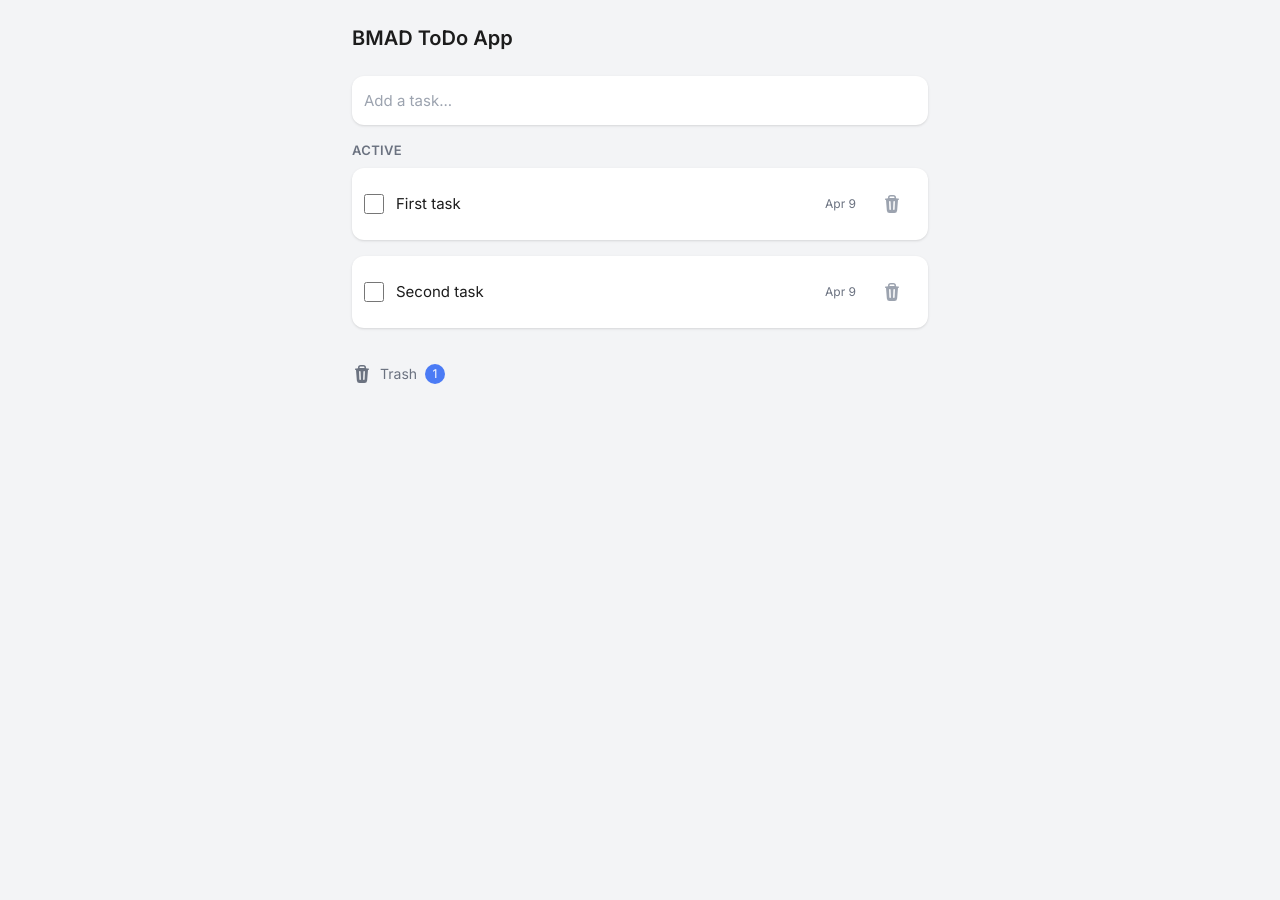
Test: App › opens trash dialog when trash button is clicked
Click the button with aria-label "trash, 1 item" at coordinates (398, 374), box [336,352,461,396]
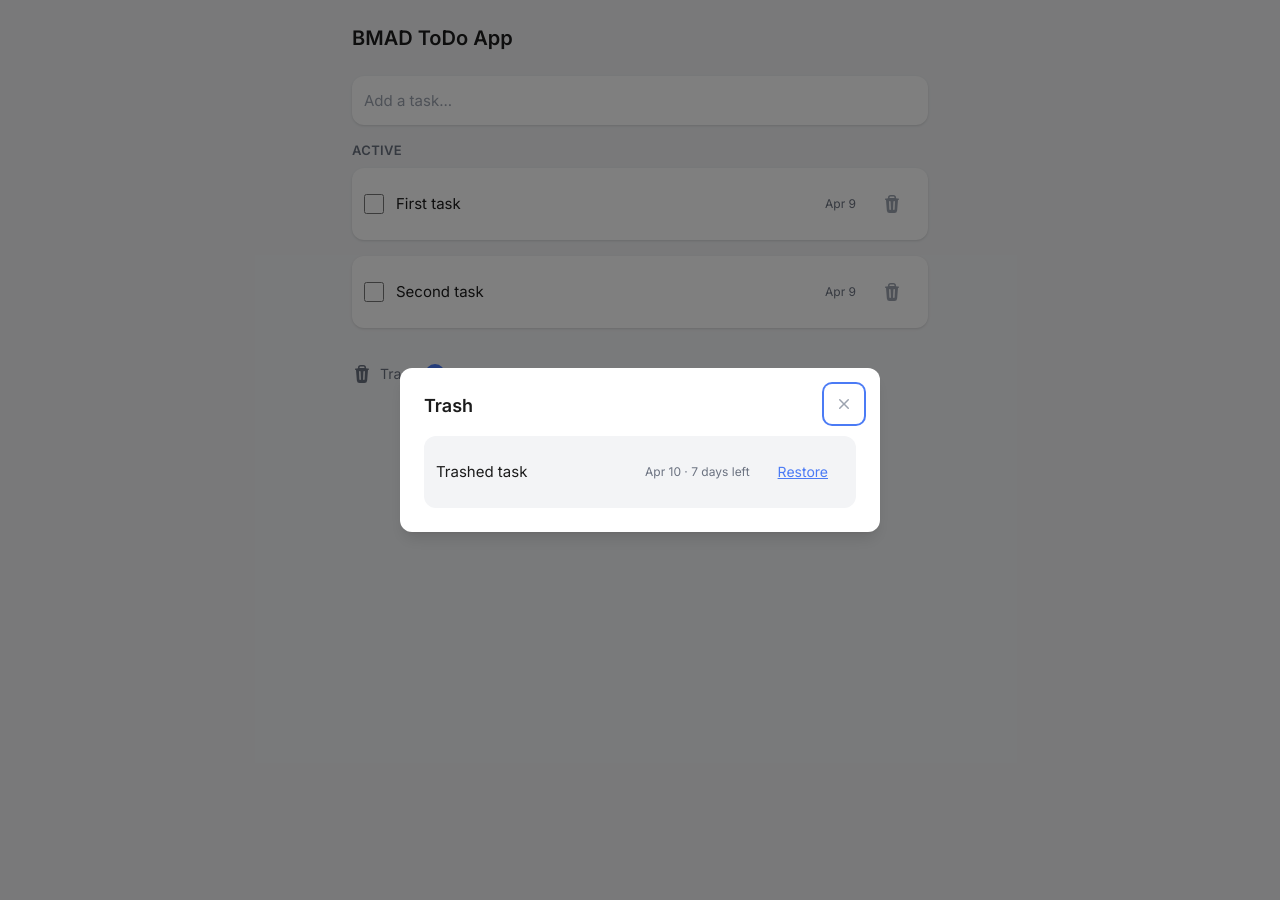
Now the dialog is shown, box [400,368,880,532]
Now the text "Trashed task" is shown, box [436,462,527,481]
